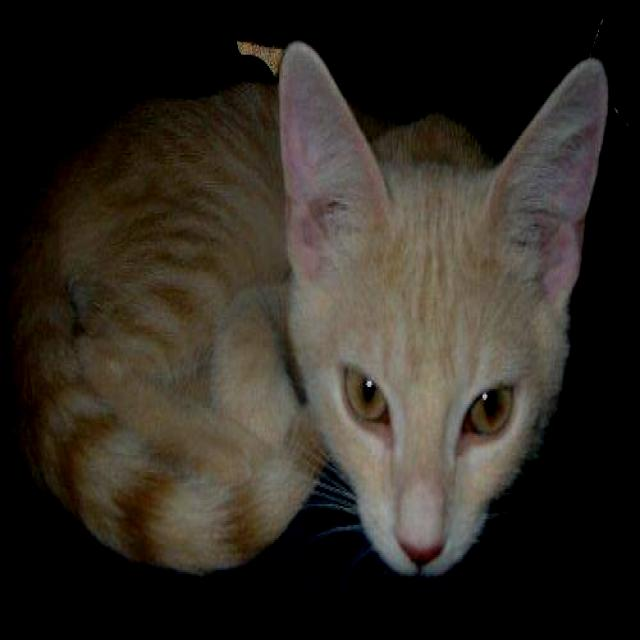Kucing: (50, 35, 620, 592)
